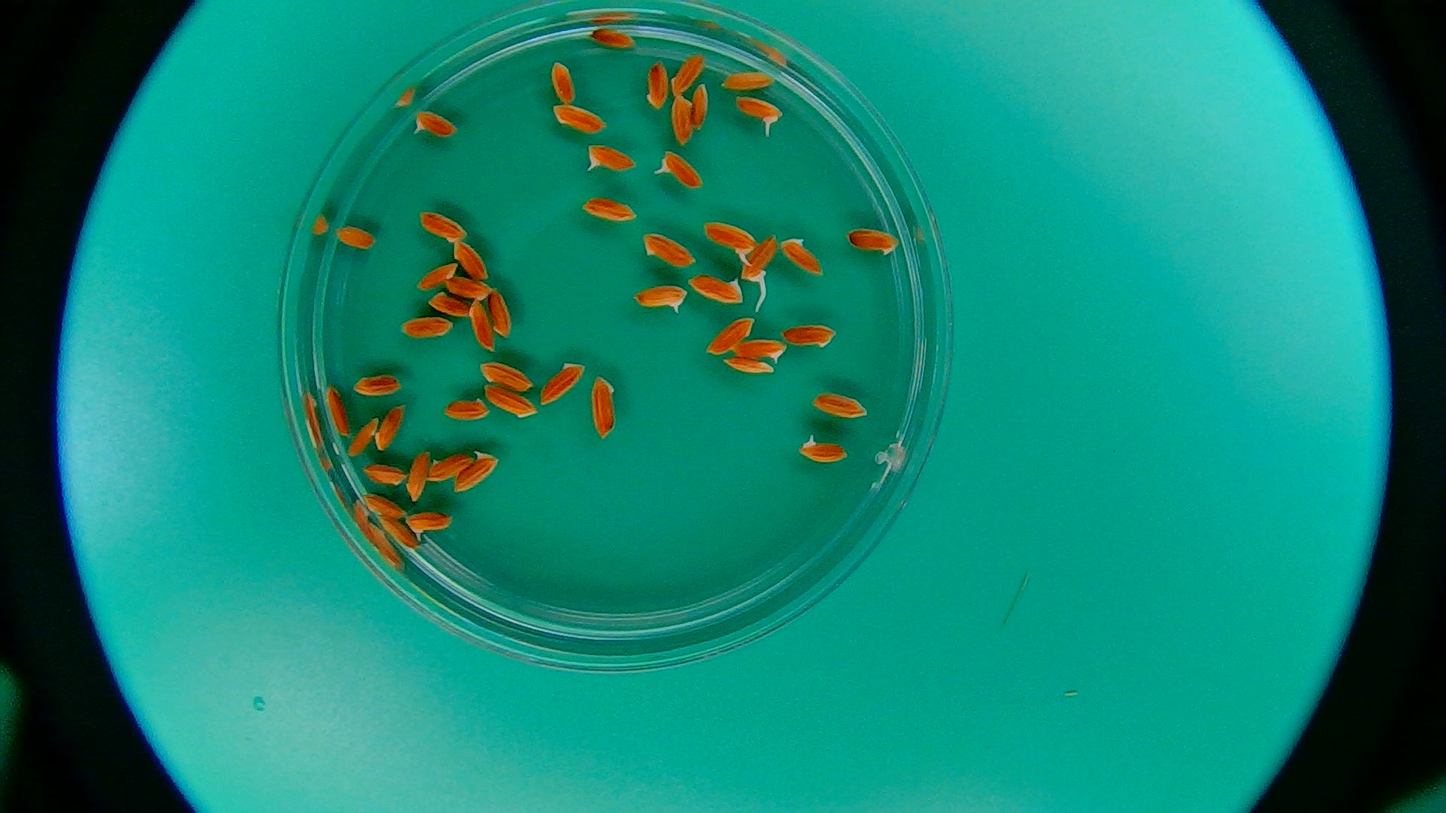no: (540, 356, 586, 410), (809, 389, 871, 425), (686, 268, 743, 307), (550, 98, 609, 135), (485, 382, 538, 423), (702, 316, 753, 358), (640, 229, 696, 266), (589, 377, 618, 444), (424, 449, 474, 486), (782, 233, 825, 276), (420, 206, 467, 245), (844, 226, 900, 258), (450, 238, 492, 280), (479, 358, 532, 391), (578, 194, 638, 223), (374, 511, 416, 552), (322, 384, 355, 436), (668, 51, 706, 96), (466, 296, 496, 352), (782, 321, 837, 351), (343, 416, 383, 457), (718, 67, 776, 95), (403, 449, 432, 501), (373, 406, 407, 450), (444, 273, 493, 303), (350, 370, 400, 399), (360, 490, 407, 520), (488, 285, 513, 340), (669, 92, 694, 146), (548, 59, 576, 106), (414, 263, 462, 290), (398, 314, 452, 338), (445, 395, 490, 423), (333, 225, 379, 252), (362, 462, 407, 489), (644, 59, 667, 111), (720, 354, 774, 376), (428, 291, 471, 318), (589, 27, 639, 50), (691, 81, 712, 134)
yes: (703, 218, 760, 261), (738, 232, 780, 284), (453, 449, 500, 494), (582, 140, 639, 175), (409, 104, 459, 142), (659, 148, 703, 188), (632, 283, 688, 314), (404, 508, 454, 542), (730, 336, 789, 364), (733, 95, 784, 127), (799, 433, 848, 465)
